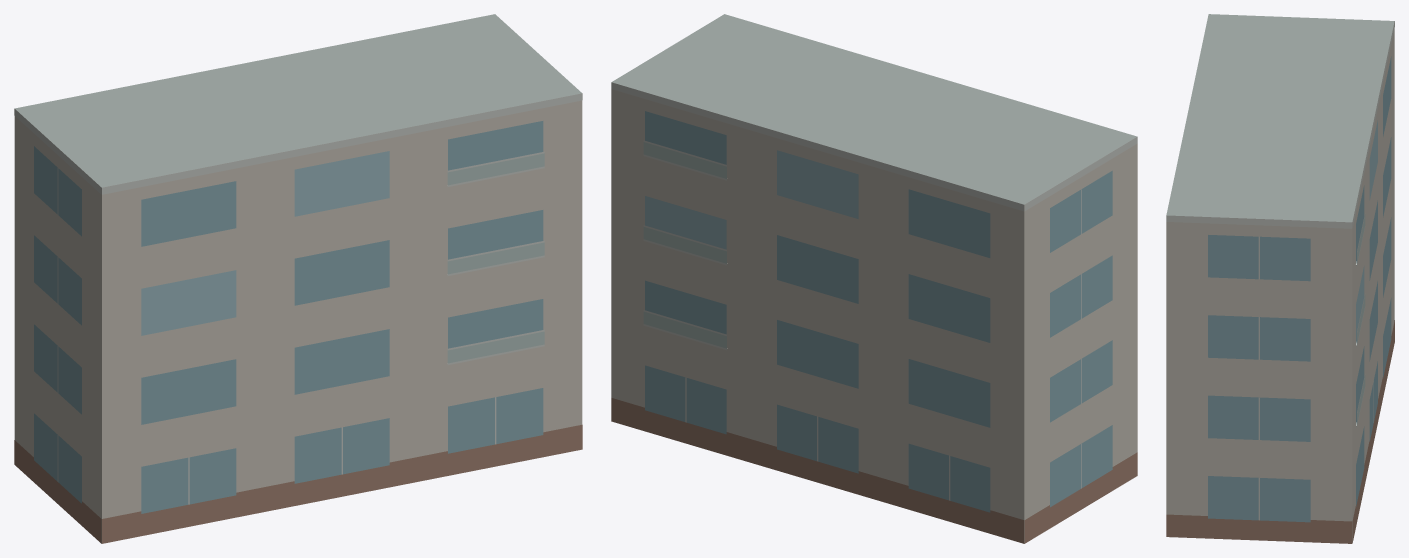
Rendered from survey-upis-32812356.glb.
3 views of the same model, side by side, from view 1: azimuth 30°, elevation 25°; view 2: azimuth 150°, elevation 25°; view 3: azimuth 270°, elevation 25° (orthographic). The views are drawn at different scales.
Parts seen in each view (by area): view 1: survey-upis-32812356.tmp; view 2: survey-upis-32812356.tmp; view 3: survey-upis-32812356.tmp.
Boxes of the visible parts, x1,y1,x2,y2 form: survey-upis-32812356.tmp: (14,14,582,543); survey-upis-32812356.tmp: (611,14,1137,543); survey-upis-32812356.tmp: (1166,14,1394,543).
Size of the model in its own units: 16.97 by 12.2 by 7.86.
